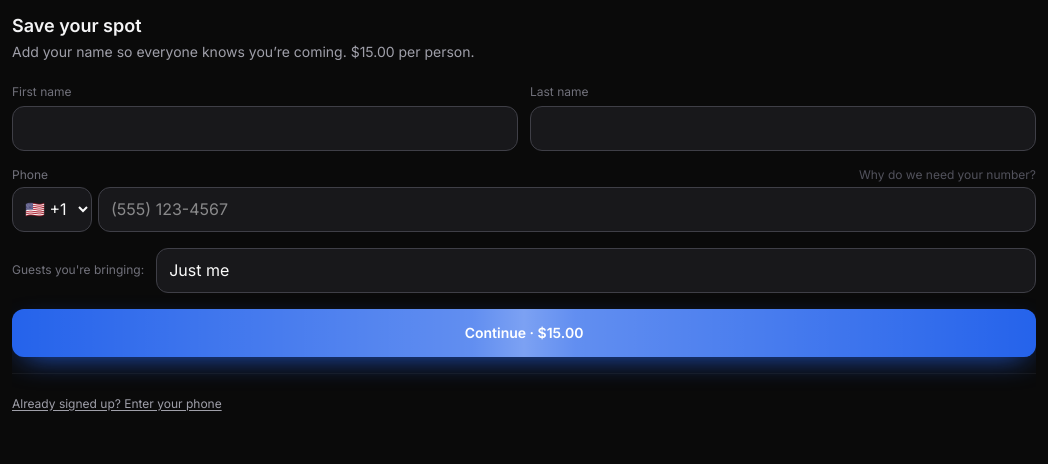
JoinSection "Not you?" flow › blocks paid continue when soft participant save fails
In the field labelled "First name": (265, 128) x1=12 y1=106 x2=518 y2=151, type "Ada"
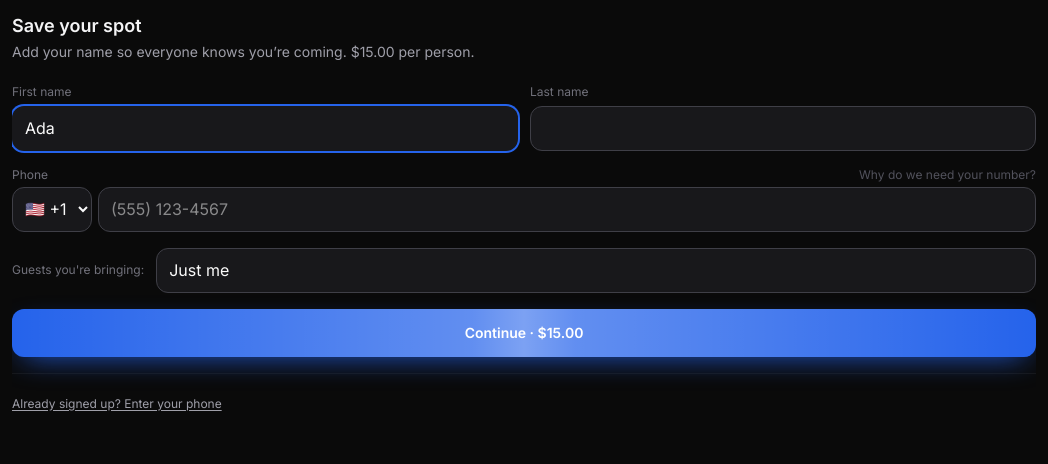
In the field labelled "Last name": (783, 128) x1=530 y1=106 x2=1036 y2=151, type "Lovelace"
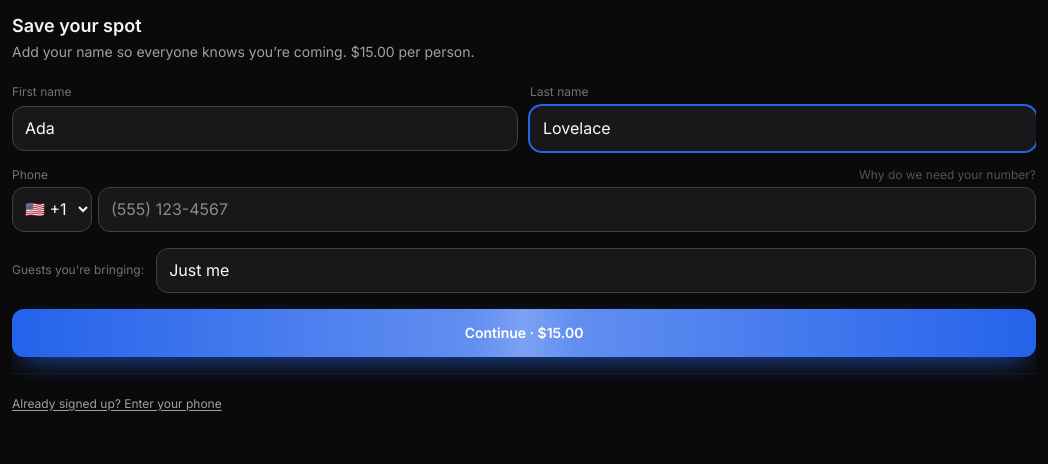
In the field named "phone number": (567, 209) x1=98 y1=187 x2=1036 y2=232, type "2025550101"
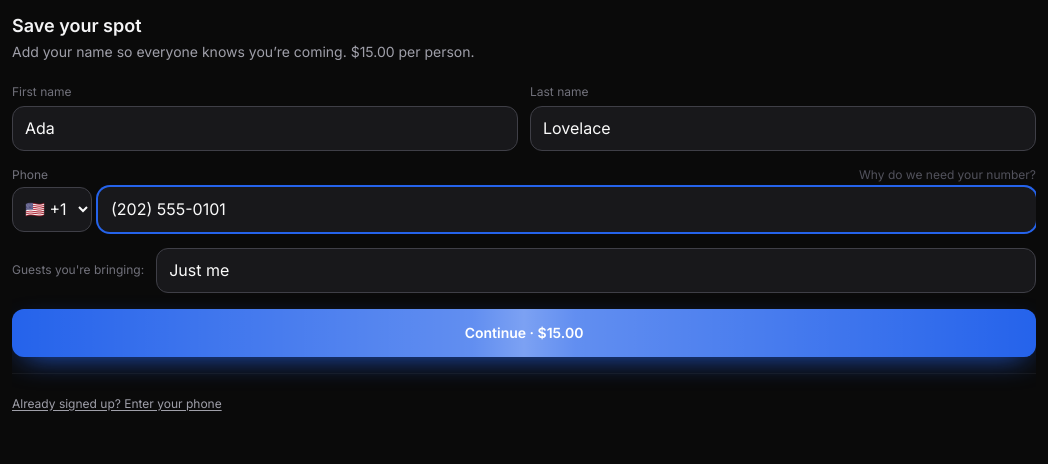
Click the button "Continue · $15.00": (524, 332) x1=12 y1=308 x2=1036 y2=356
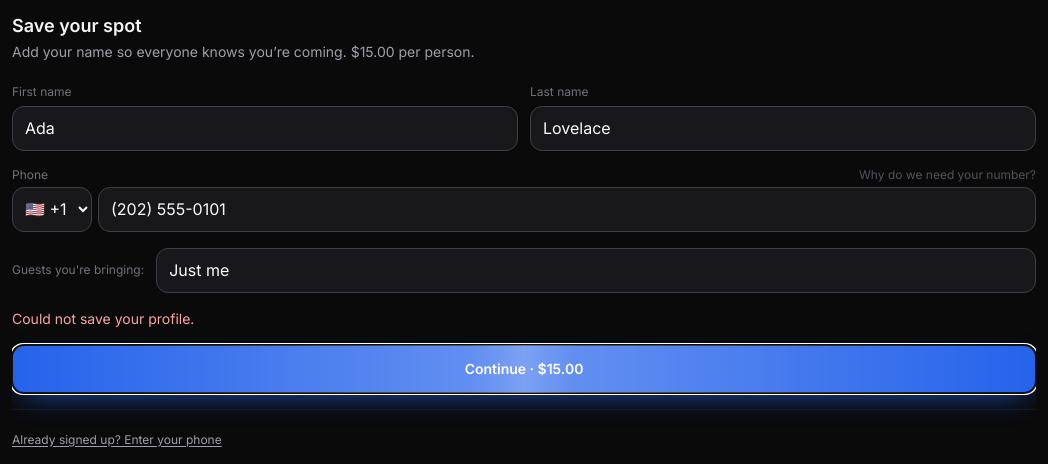
expect the text "Could not save your profile." is shown: met, box x1=12 y1=310 x2=194 y2=326
